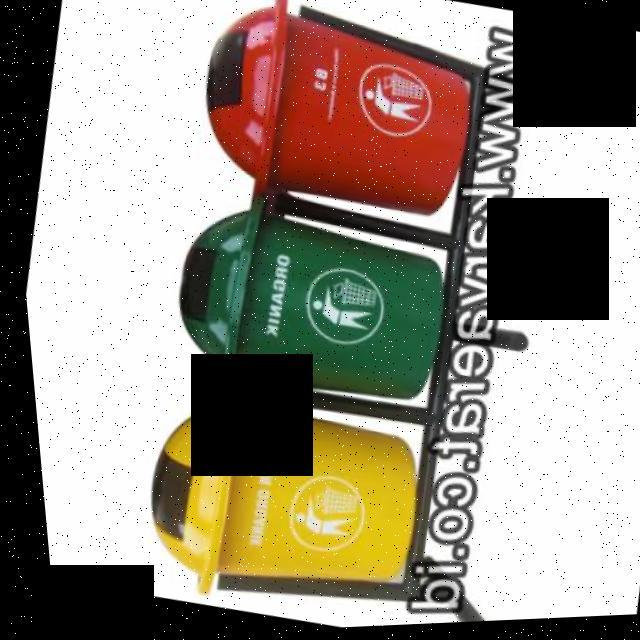bin: (98, 363, 447, 638), (137, 172, 467, 440), (167, 0, 495, 249)
